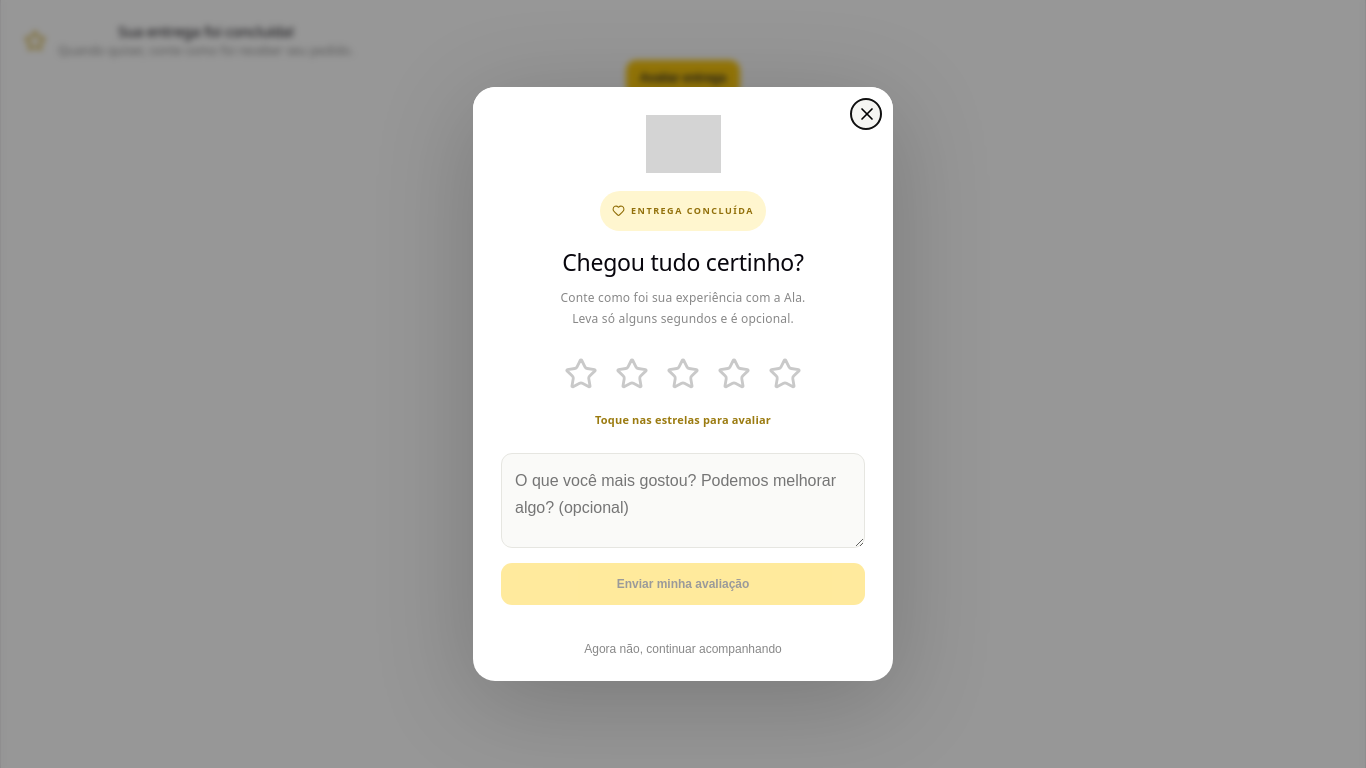
Test case: avaliação automática é opcional, aparece após consulta e pode ser dispensada
This screenshot has width=1366, height=768.
Click the button "Agora não, continuar acompanhando". click: (683, 649)
box: [473,642,893,681]
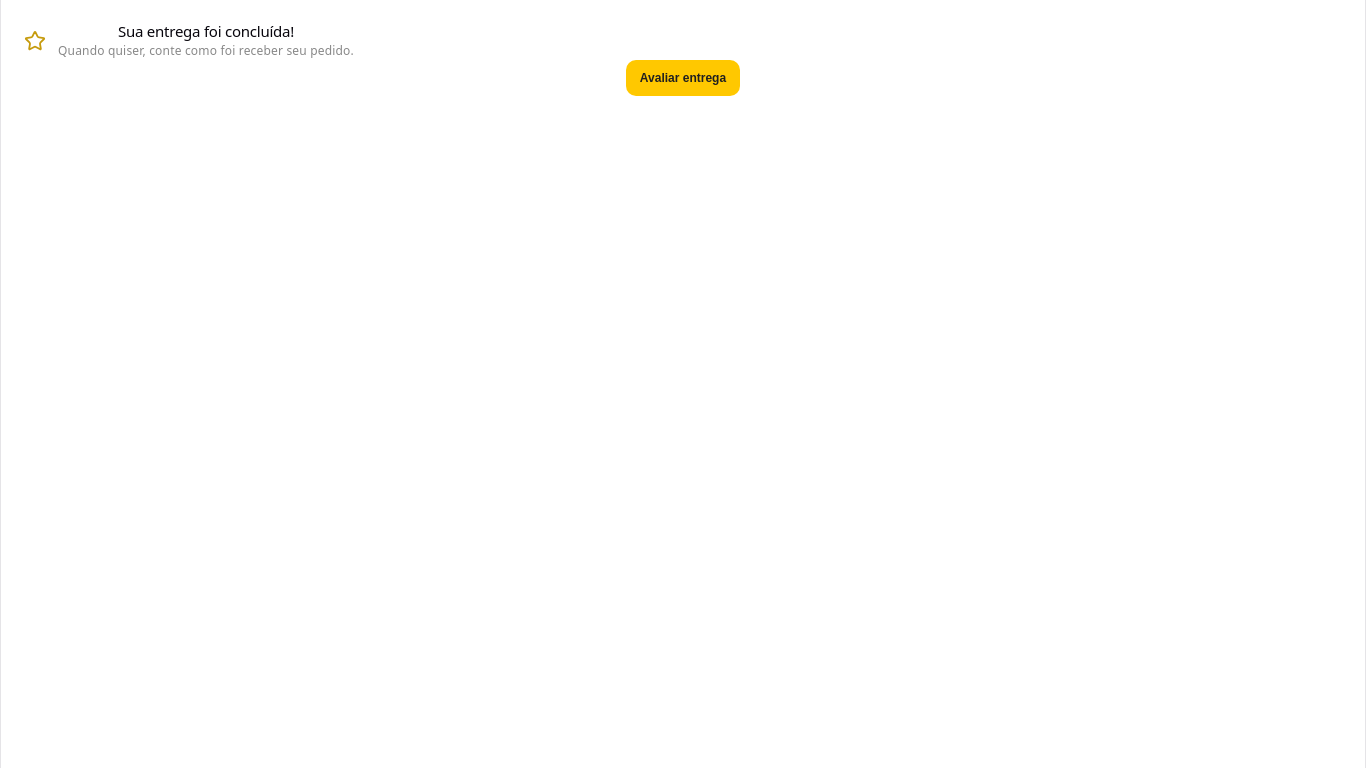
Check: the dialog is gone
